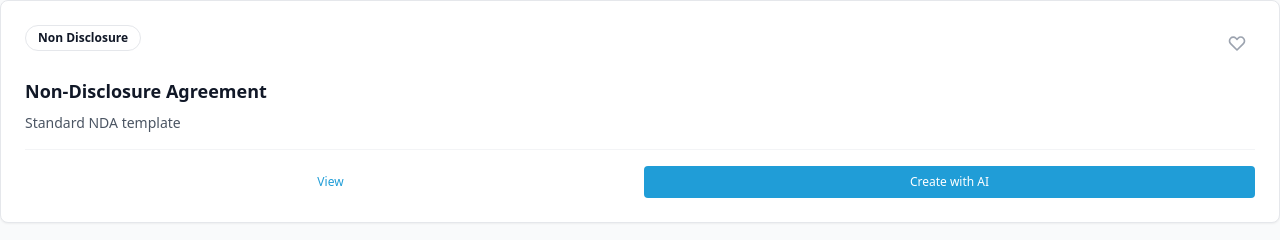
Scenario: TemplateCard › toggles favorite state when the favorite button is clicked
Step 1. Click the button titled "Add to favorites" → (1237, 43), box [1219,25,1255,61]
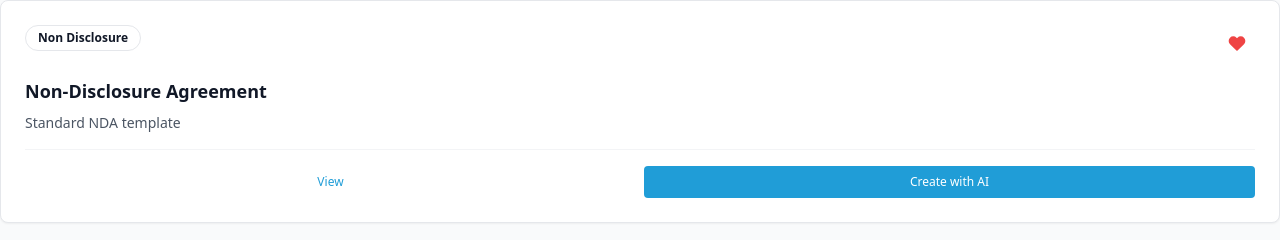
Expected: the button titled "Remove from favorites" is shown, [1219,25,1255,61]
